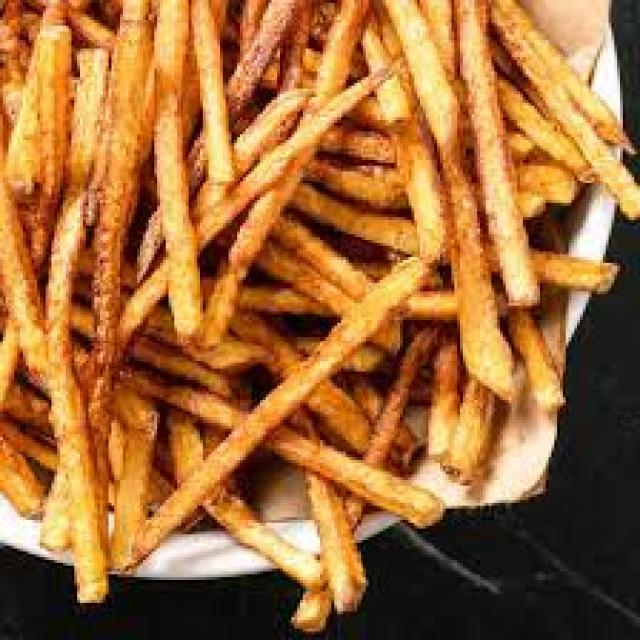Fries: (0, 3, 629, 551)
